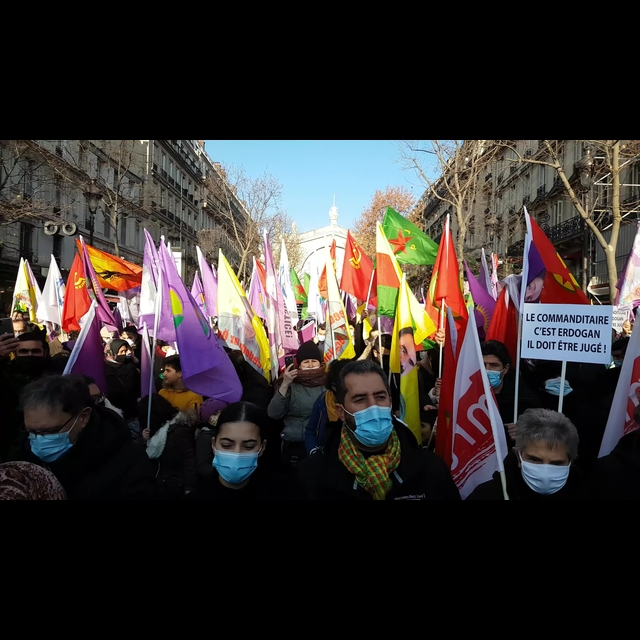YPJ: (390, 214, 424, 257)
